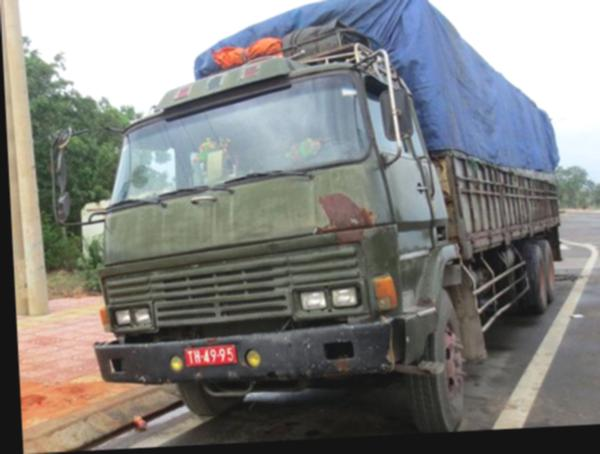License_Plate: (182, 340, 239, 369)
